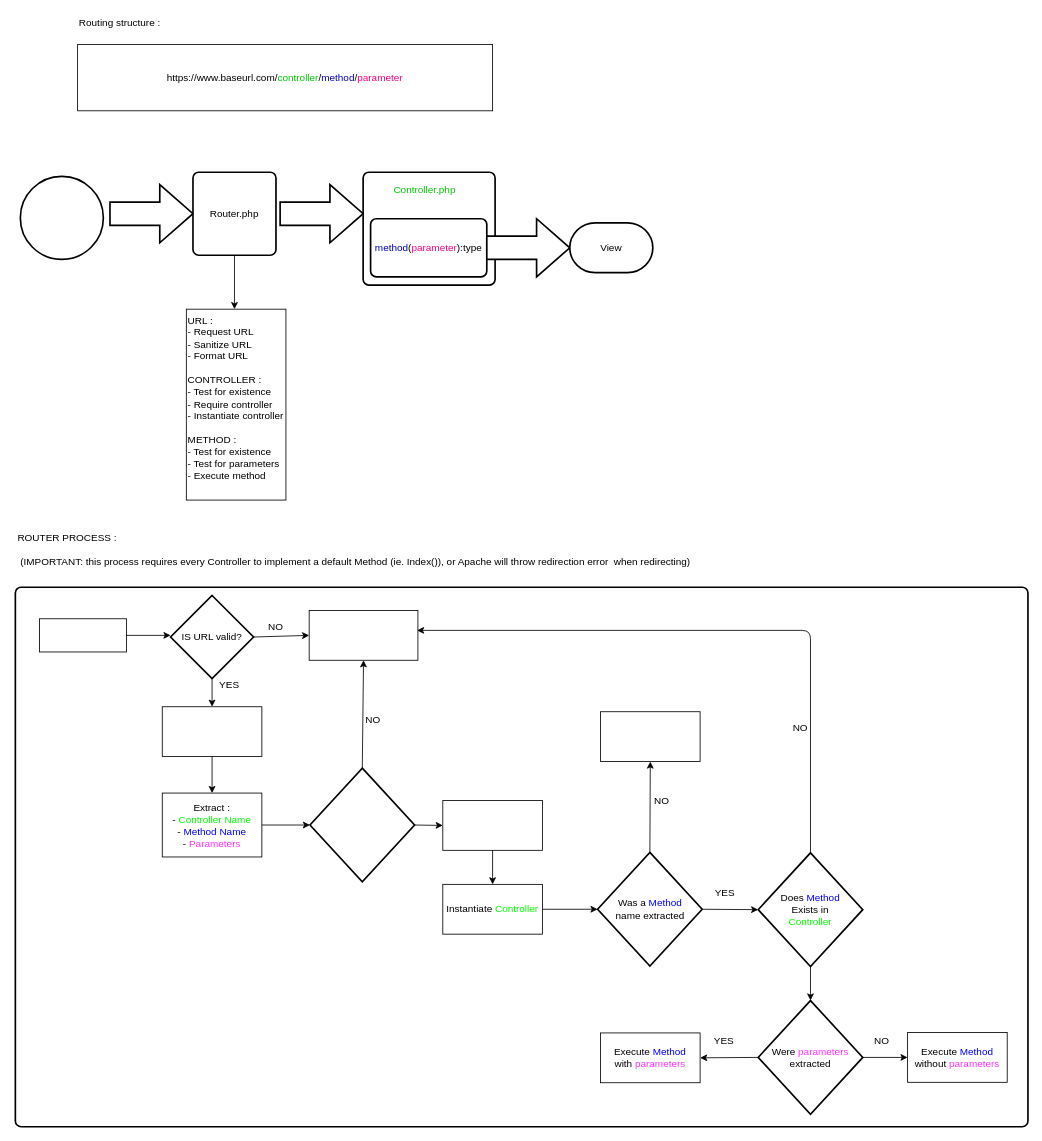
Image size: 1042x1141. Some labels were removed from this diagram. The shapes that lost their labels are listed below. From the top down, each one's centre as x and y in pixels, then its label:
the point at 61,217: index.php
the point at 83,635: Get URL
the point at 363,635: Redirect to baseURL/ Index / Index
the point at 211,731: Sanitize
the point at 650,736: Execute Controller Default Method (ie. Index())
the point at 362,824: Does Controller Exists in File System
the point at 492,825: Require Controller
